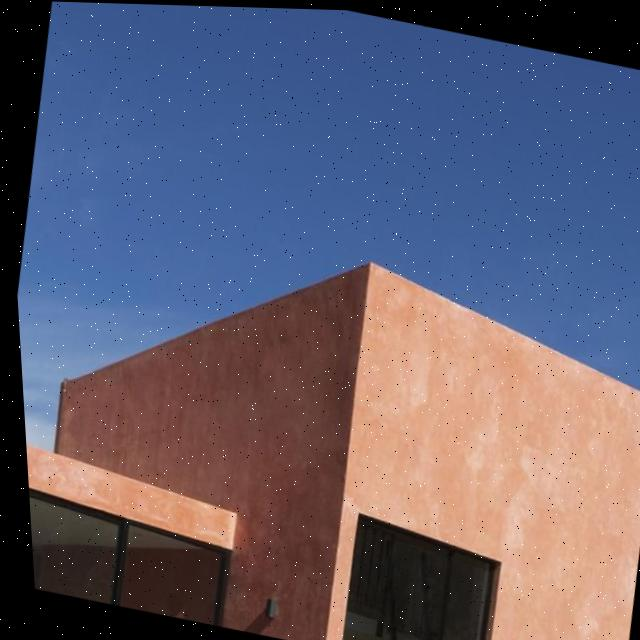building: (11, 190, 640, 640)
